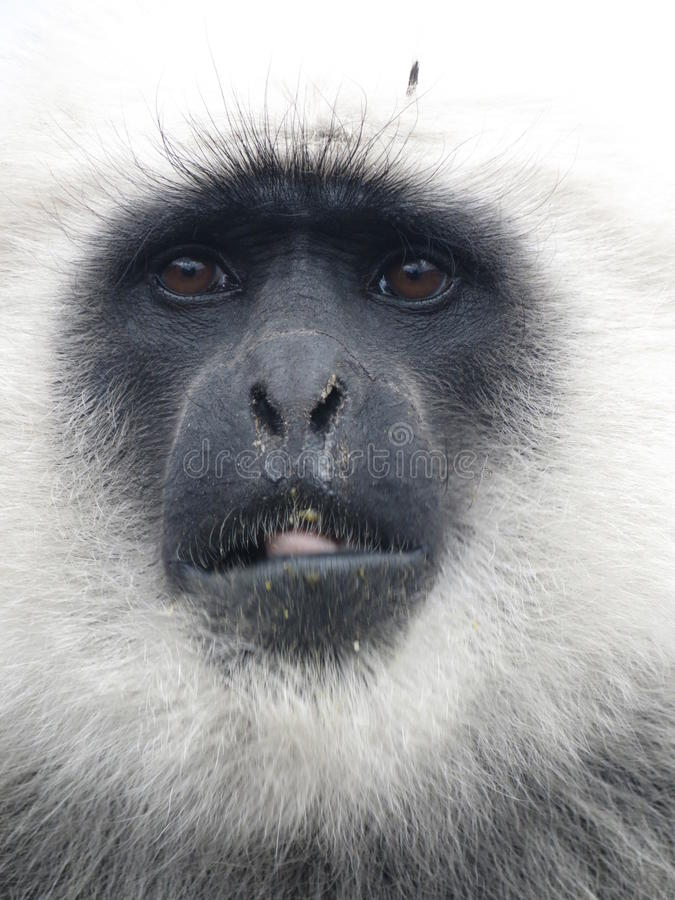monkey: (11, 92, 675, 900)
